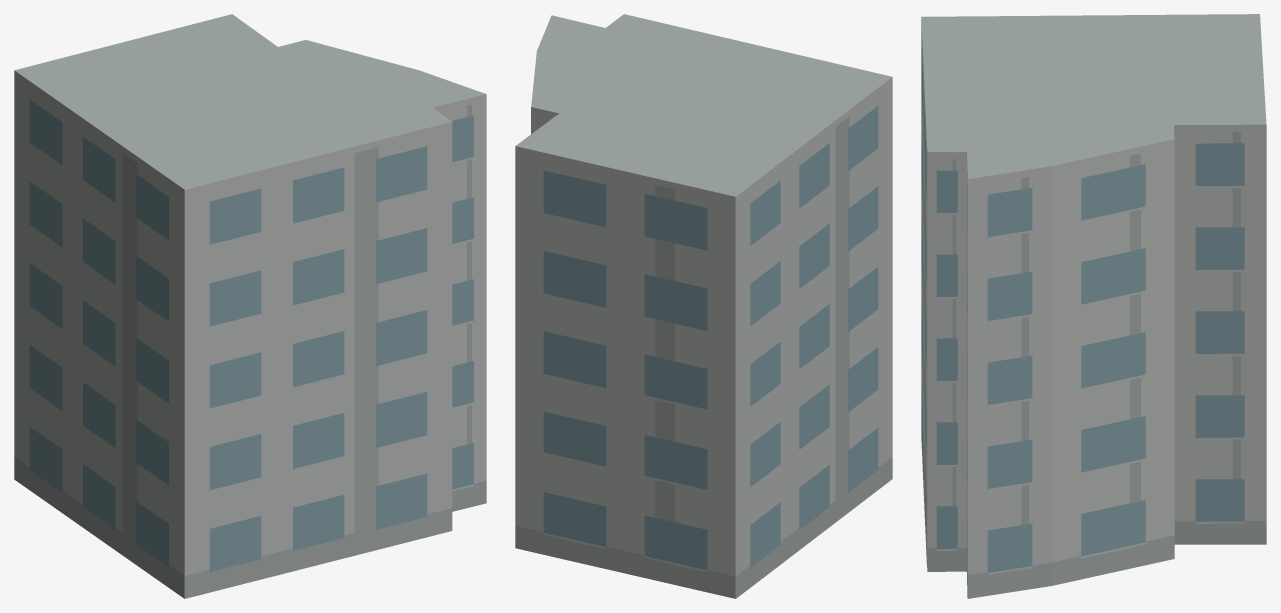
Rendered from survey-upis-32969491.glb.
3 views of the same model, side by side, from view 1: azimuth 30°, elevation 25°; view 2: azimuth 150°, elevation 25°; view 3: azimuth 270°, elevation 25° (orthographic). The views are drawn at different scales.
Parts seen in each view (by area): view 1: survey-upis-32969491.tmp; view 2: survey-upis-32969491.tmp; view 3: survey-upis-32969491.tmp.
Boxes of the visible parts, x1=… form: survey-upis-32969491.tmp: x1=14, y1=14, x2=486, y2=598; survey-upis-32969491.tmp: x1=515, y1=14, x2=892, y2=598; survey-upis-32969491.tmp: x1=921, y1=14, x2=1266, y2=598.
Size of the model in its own units: 12.5 by 14.8 by 11.04.
